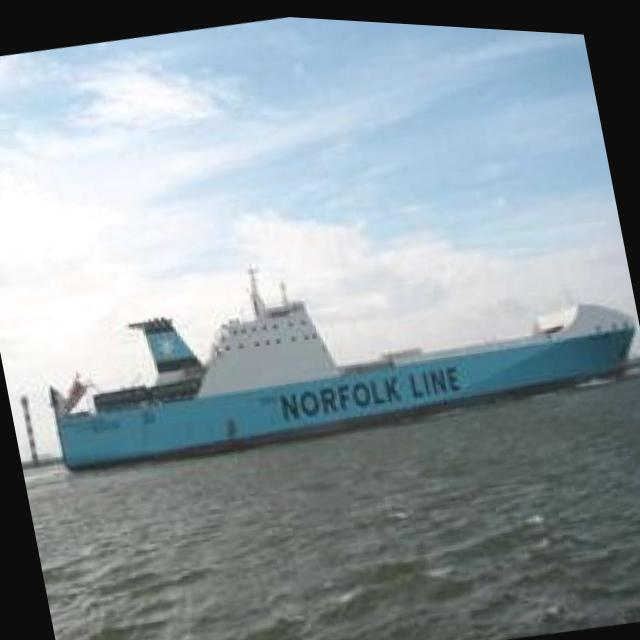ship2: (46, 263, 638, 473)
